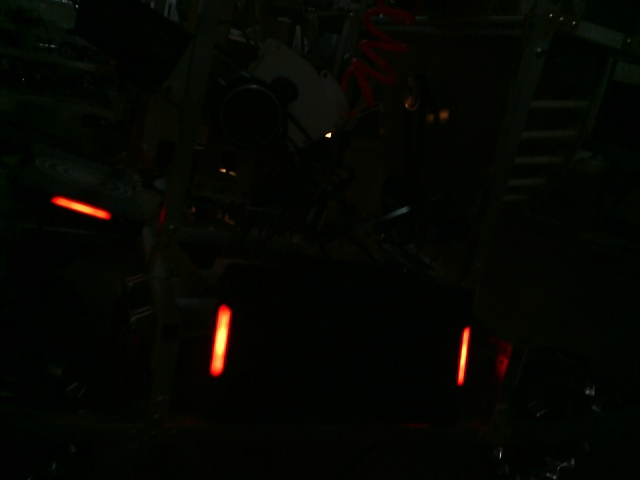lamp: (210, 301, 233, 380), (455, 324, 471, 386)
